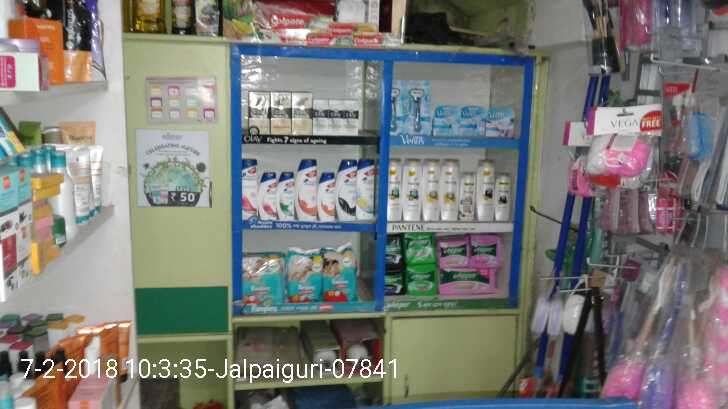venus: (403, 79, 431, 133), (486, 107, 513, 138), (459, 107, 486, 135), (435, 105, 459, 135), (392, 80, 403, 133)
